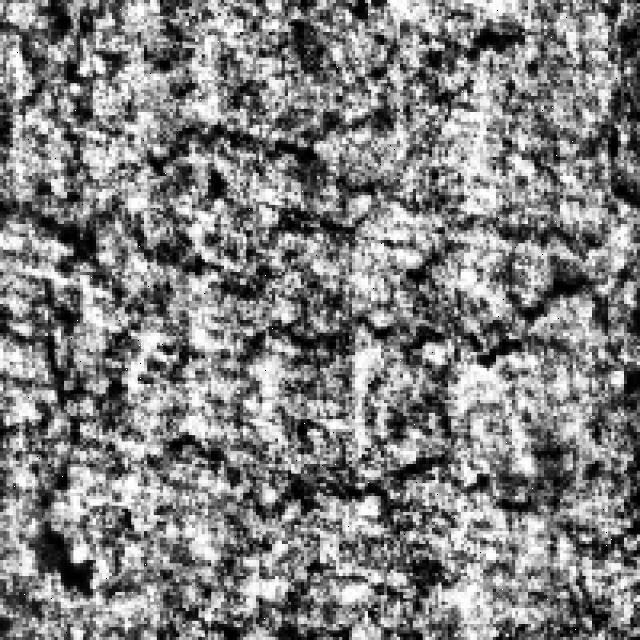Pitted_Surface: (208, 275, 640, 515), (3, 0, 141, 595), (9, 112, 390, 285)
